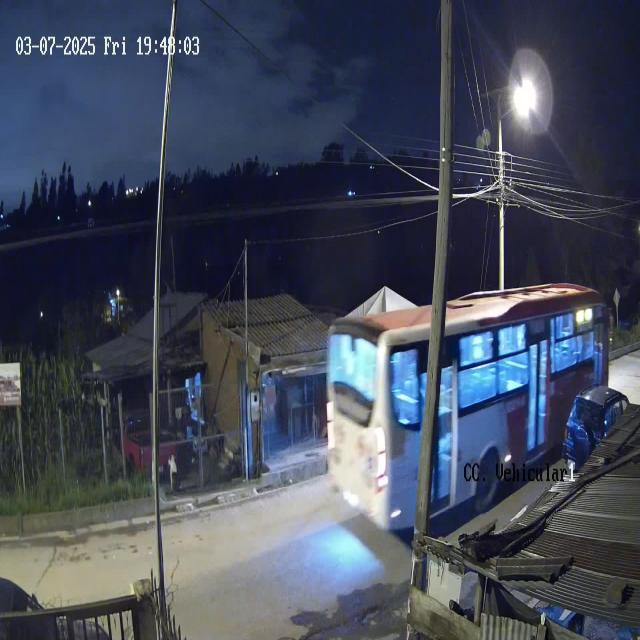BUS: (327, 284, 612, 535)
